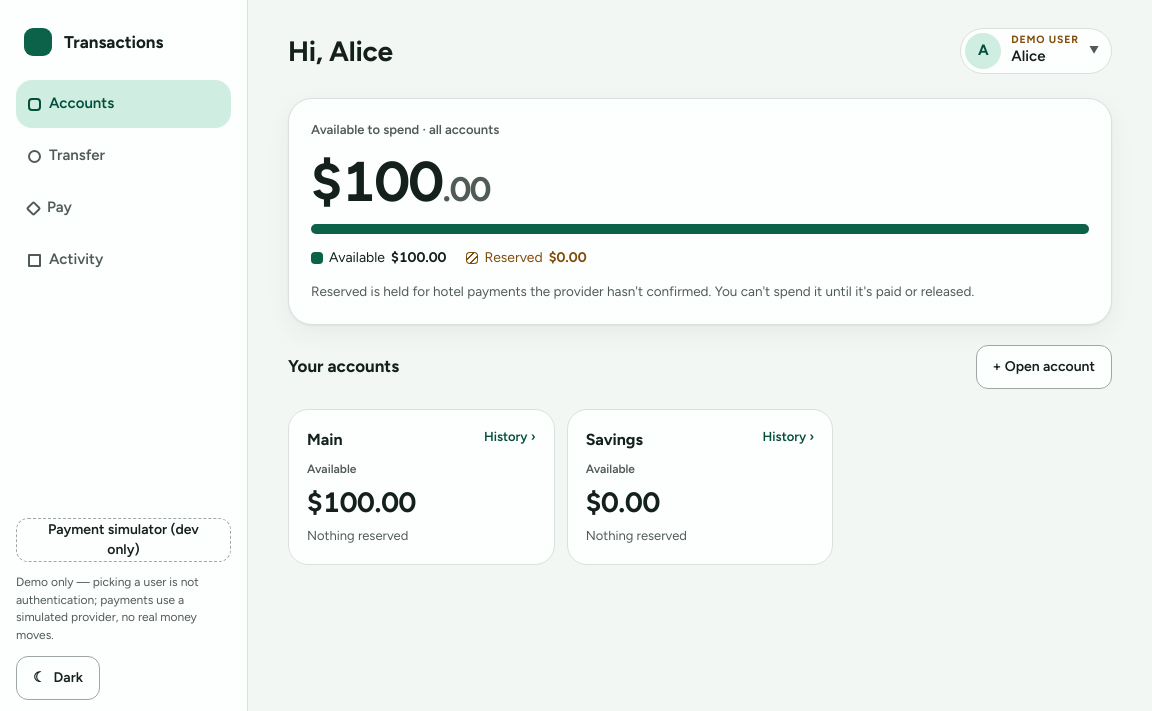
it: Calm wallet UI › 2: shows available and reserved separately, with the word Reserved and the explainer
The image size is (1152, 711).
expect the heading "Hi, Alice" is shown: met, box [288,31,393,71]
expect the element named "Balance summary" is shown: met, box [288,98,1112,325]
Click the button "Pay" at (124, 208), box [16,184,231,232]
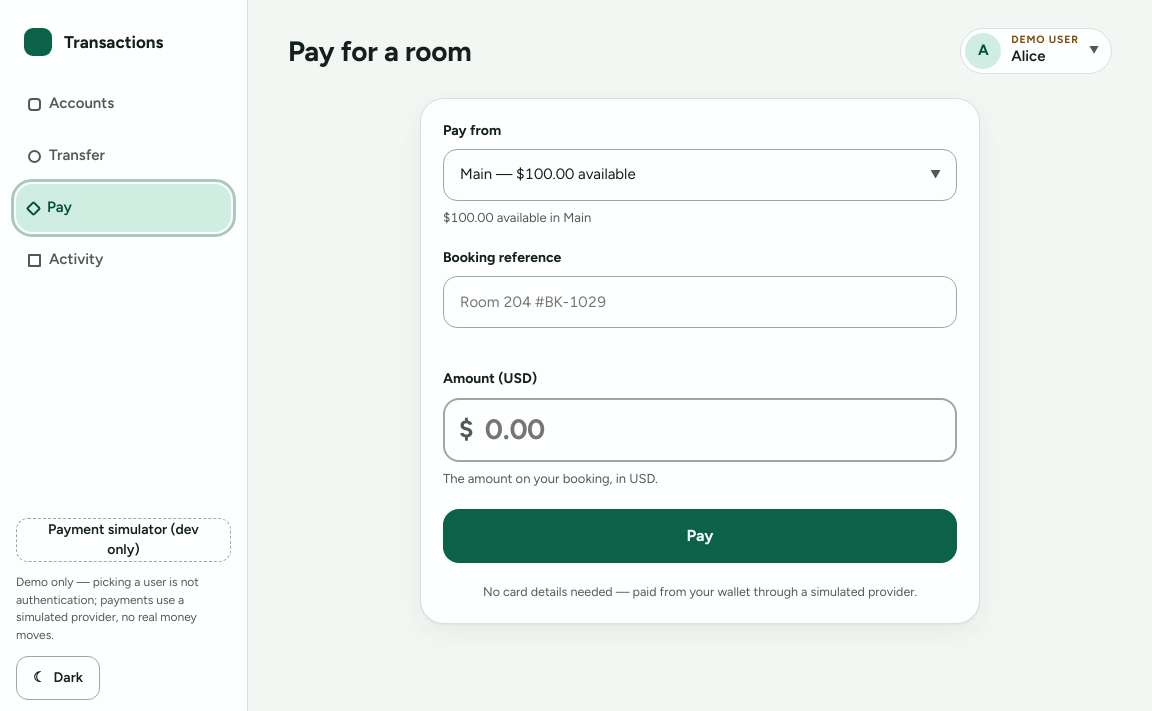
Type "Room 204" into the field labelled "Booking reference" at (700, 302), box [443,276,957,328]
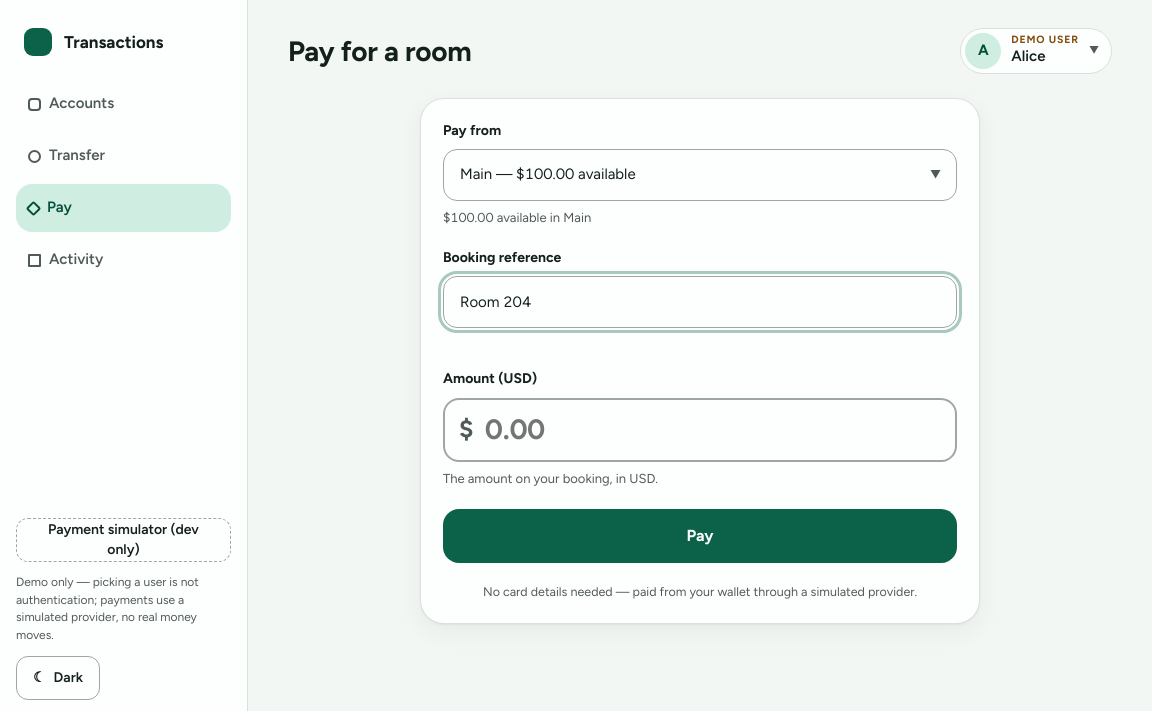
Type "20" into the field labelled "Amount (USD)" at (700, 430), box [443,398,957,462]
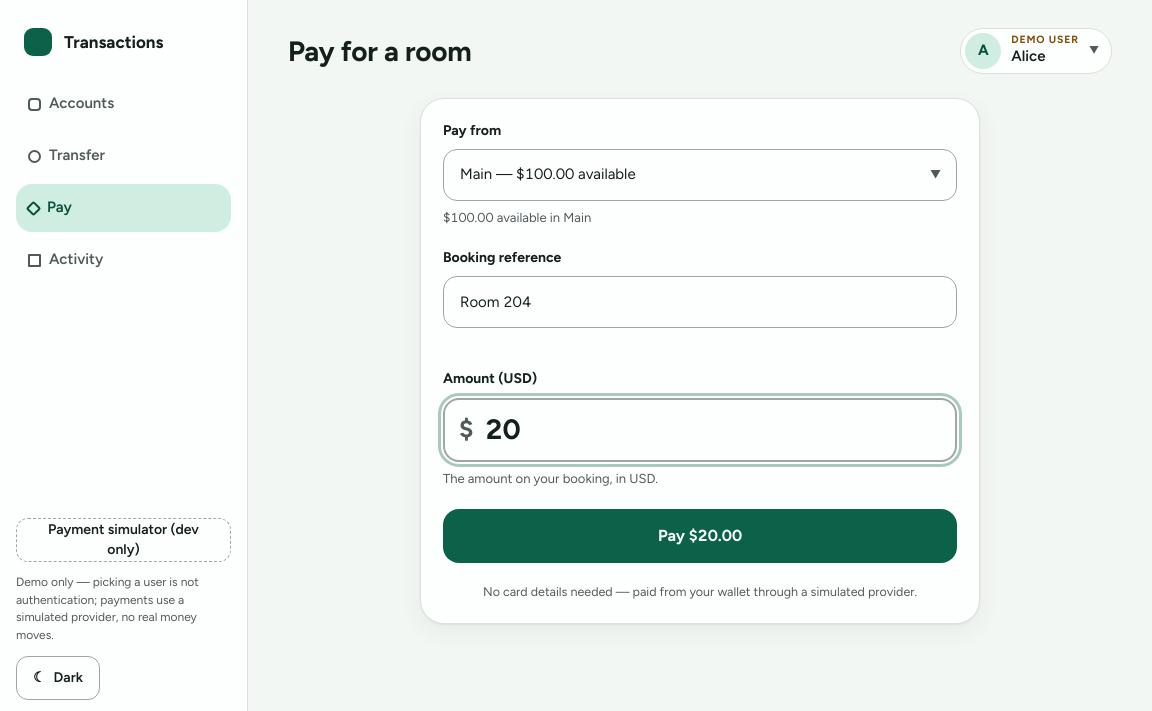
Click the button "Pay $20.00" at (700, 536), box [443,509,957,563]
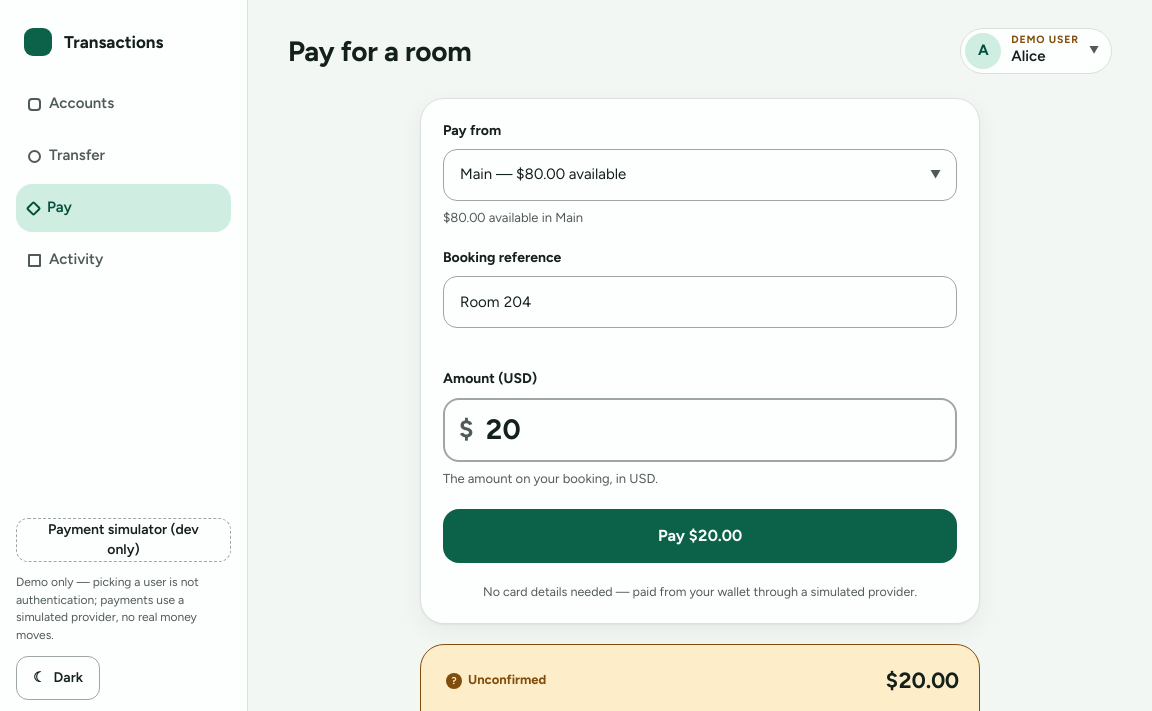
Click the button "Accounts" at (124, 104), box [16,80,231,128]
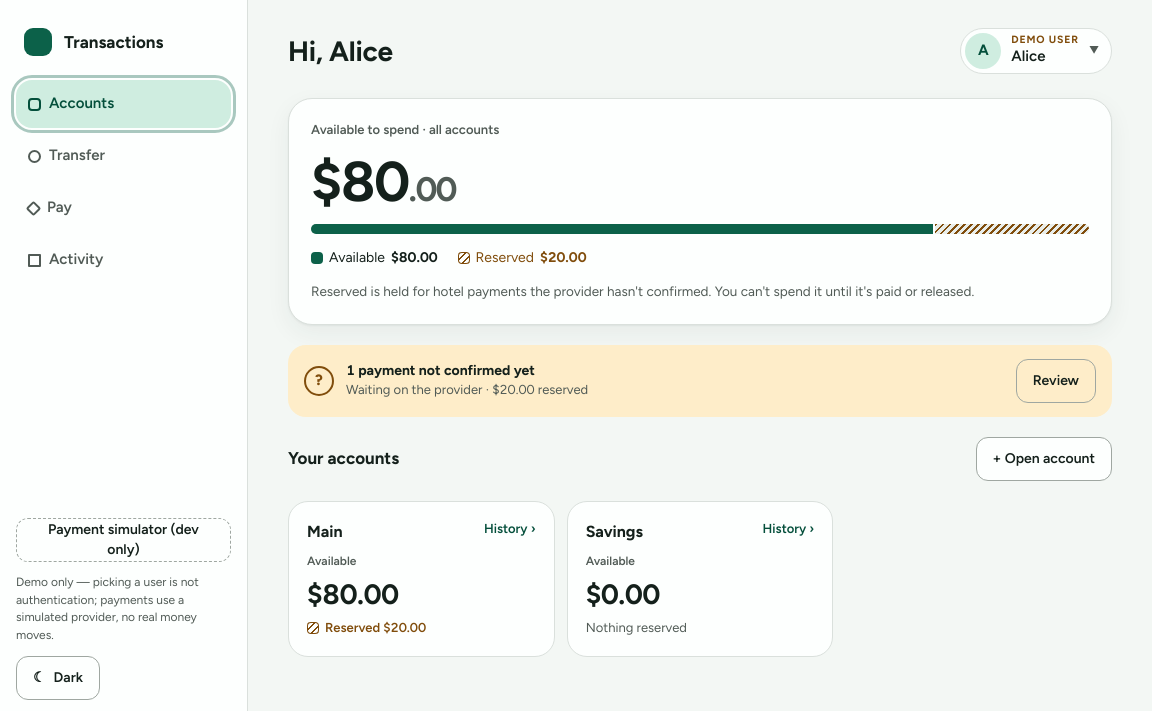
expect the text "$80.00" below "Available to spend · all accounts" is shown: met, box [391,249,438,266]
expect the text "$20.00" is shown: met, box [540,248,586,268]
expect the text "$20.00" reads "Reserved $20.00": met, box [458,248,586,268]
